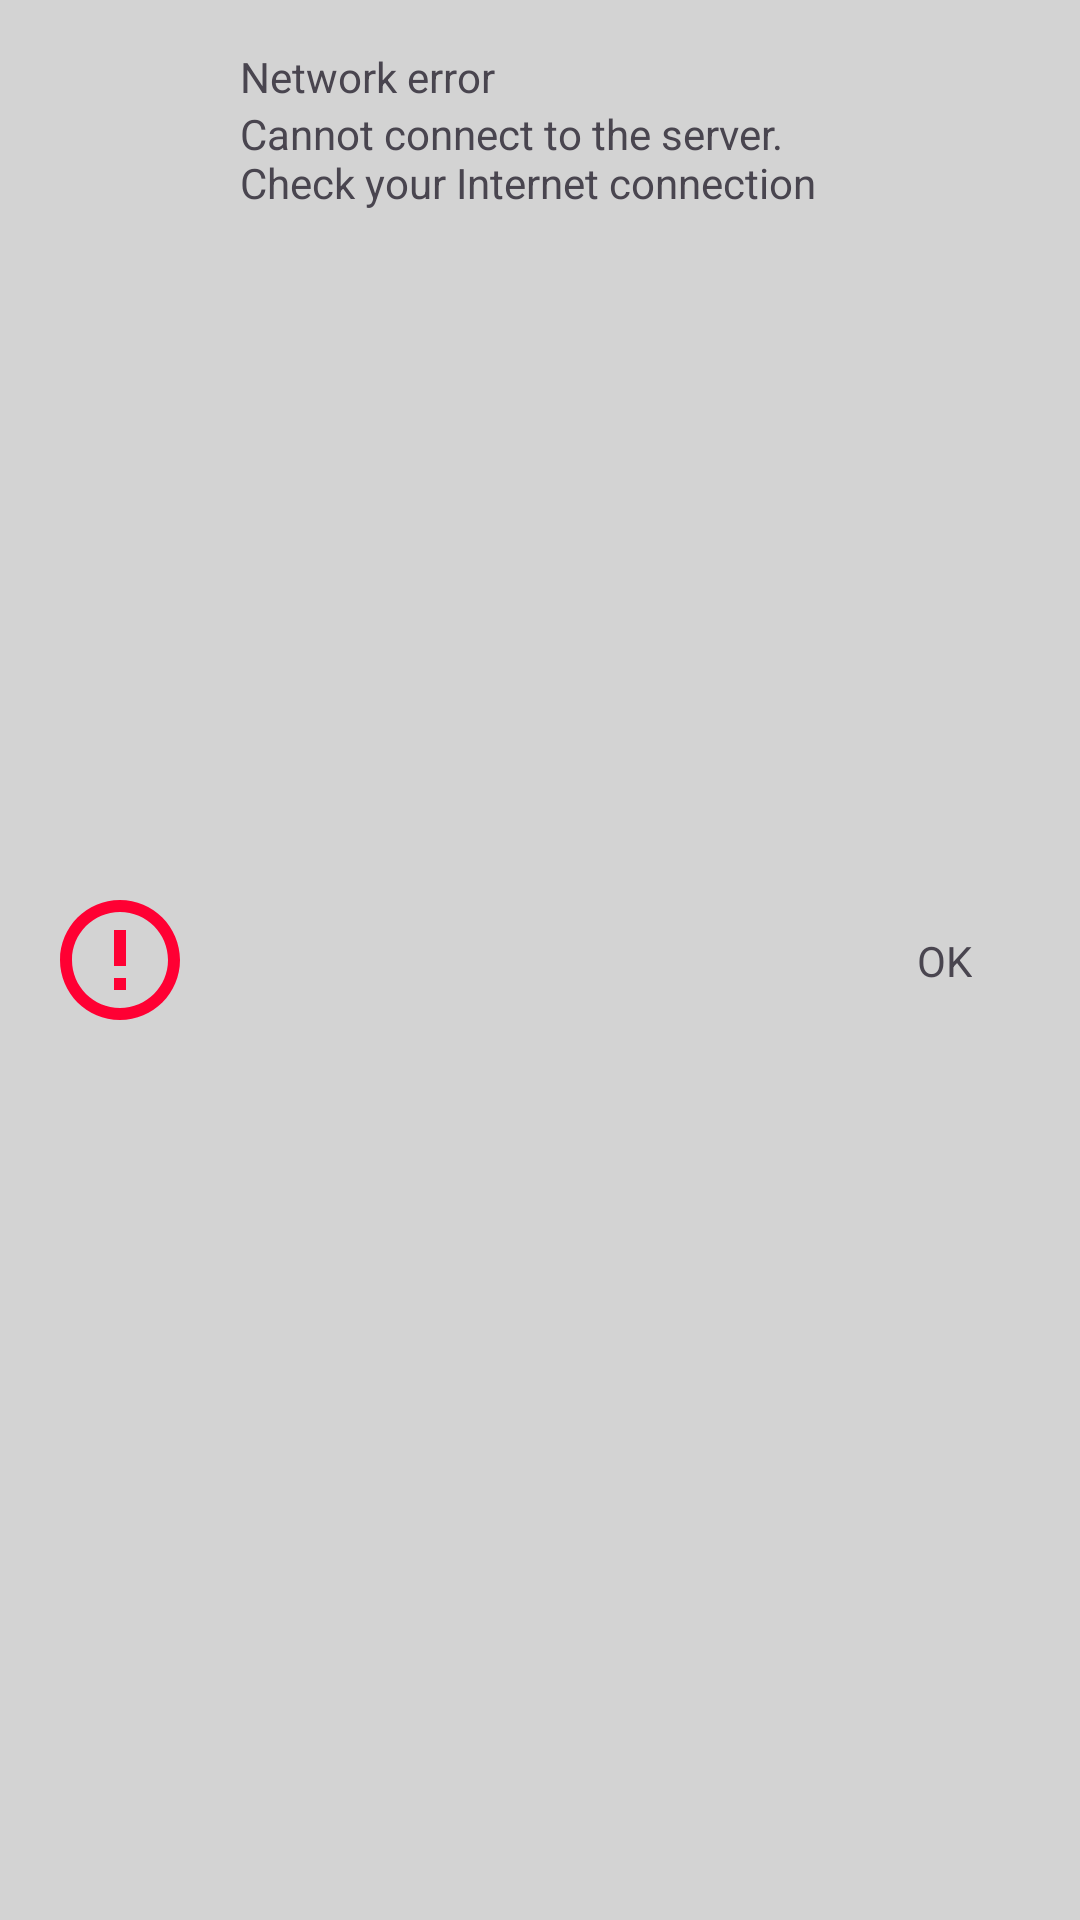

Screen size 1080×1920. Icon name, then its center in pixels as (x,y):
error: (120,960)
